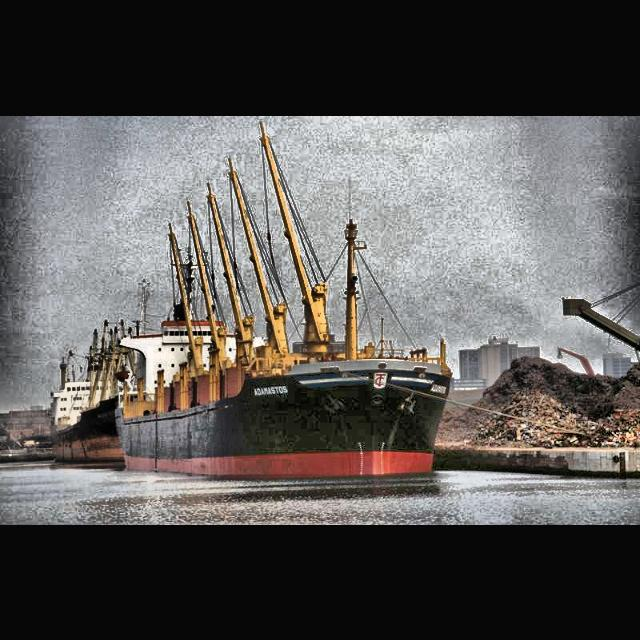bulk_carrier: (114, 181, 454, 481), (46, 316, 158, 462)
